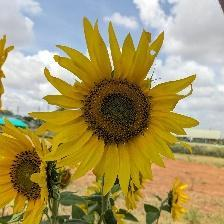sunflower: (28, 16, 204, 200)
